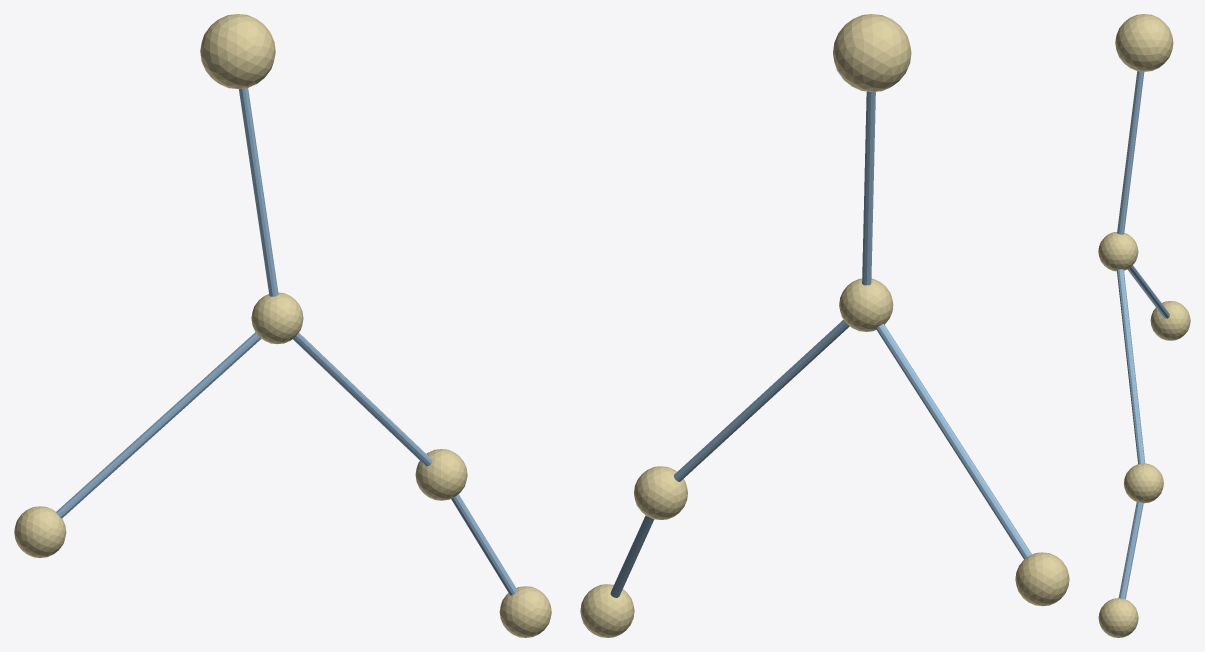
The model's file is cancer.glb.
3 views of the same model, side by side, from view 1: azimuth 30°, elevation 25°; view 2: azimuth 150°, elevation 25°; view 3: azimuth 270°, elevation 25° (orthographic). The views are drawn at different scales.
Visible parts, largest first — view 1: world; view 2: world; view 3: world.
Part boxes in pixels (box(x1,y1,x2,y2)): world: box(14, 14, 551, 637); world: box(580, 14, 1069, 637); world: box(1098, 14, 1190, 637).
Size of the model in its own units: 2.2 by 2.84 by 0.4602.
